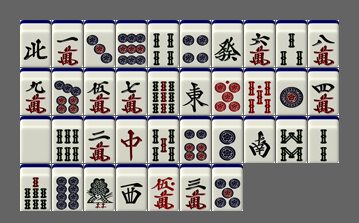0m: (148, 164, 179, 211)
0p: (212, 68, 243, 115)
0s: (244, 68, 275, 115)
1m: (52, 20, 83, 67)
1p: (276, 68, 307, 115)
1s: (84, 164, 115, 211)
1z: (180, 68, 211, 115)
2m: (84, 116, 115, 163)
2p: (212, 116, 243, 163)
2s: (308, 116, 339, 163)
2z: (244, 116, 275, 163)
3m: (180, 164, 211, 211)
3p: (84, 20, 115, 67)
3s: (276, 20, 307, 67)
3z: (116, 164, 147, 211)
4m: (308, 68, 339, 115)
4p: (180, 20, 211, 67)
4s: (148, 20, 179, 67)
4z: (20, 20, 51, 67)
5m: (84, 68, 115, 115)
5p: (212, 164, 243, 211)
5s: (148, 116, 179, 163)
5z: (20, 116, 51, 163)
6m: (244, 20, 275, 67)
6p: (180, 116, 211, 163)
6s: (52, 116, 83, 163)
6z: (212, 20, 243, 67)
7m: (116, 68, 147, 115)
7p: (52, 68, 83, 115)
7s: (20, 164, 51, 211)
7z: (116, 116, 147, 163)
8m: (308, 20, 339, 67)
8p: (52, 164, 83, 211)
8s: (276, 116, 307, 163)
9m: (20, 68, 51, 115)
9p: (116, 20, 147, 67)
9s: (148, 68, 179, 115)
